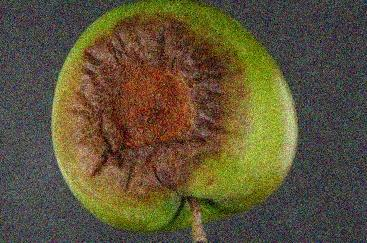rotten apple: (49, 0, 302, 236)
